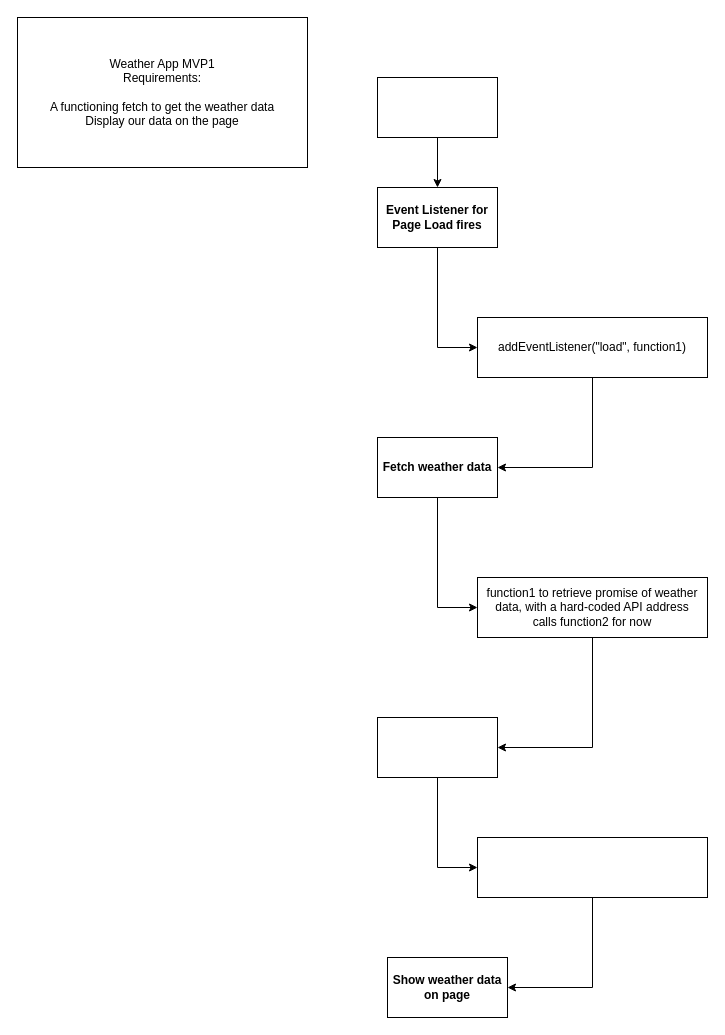
Some shapes in this 725 by 1035 pixel diagram are drawn without their labels. Here are the shapes that lost their labels. From the top down, the centre of each, then its label:
At (437,107): "User loads page".
At (437,747): "Pass weather data to our web page".
At (592,867): "function2 assign weatherData.data to new Elements, and appendChild()".
